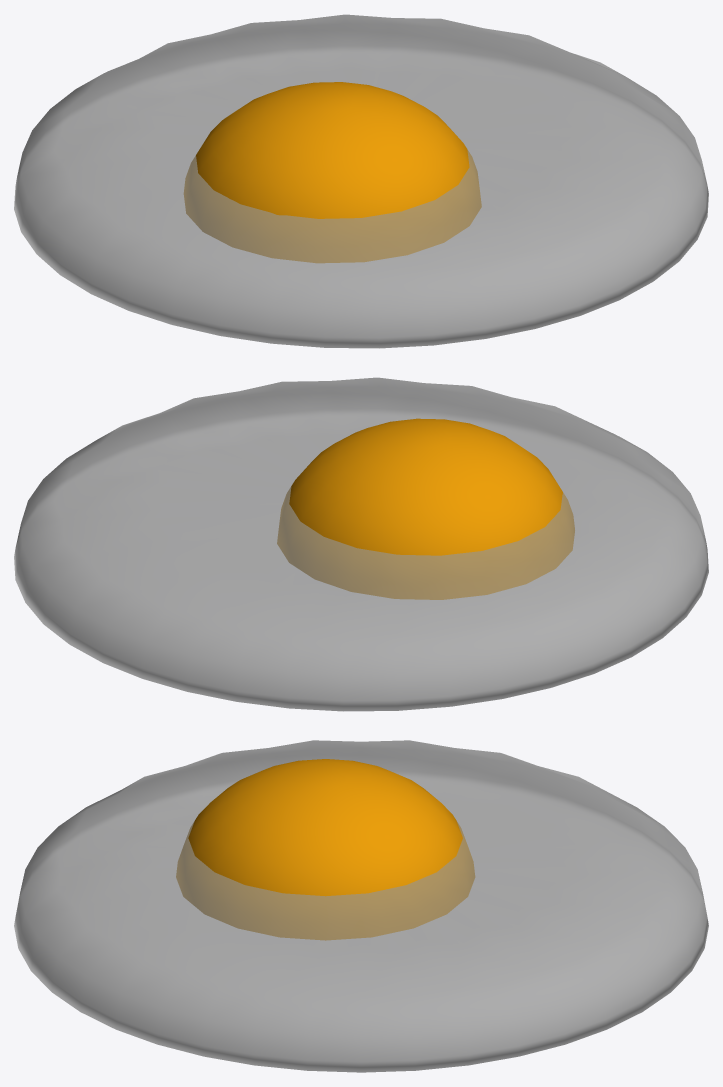
File: EggUncooked01.fbx
The picture shows the model from 3 angles, top to bottom: view 1: azimuth 30°, elevation 25°; view 2: azimuth 150°, elevation 25°; view 3: azimuth 270°, elevation 25°; orthographic projection.
Visible parts, largest first — view 1: pasted__pCylinder1, pasted__pSphere1; view 2: pasted__pCylinder1, pasted__pSphere1; view 3: pasted__pCylinder1, pasted__pSphere1.
Boxes of the visible parts, x1,y1,x2,y2 form: pasted__pCylinder1: (14,14,708,348); pasted__pSphere1: (184,82,481,262); pasted__pCylinder1: (14,377,708,711); pasted__pSphere1: (277,418,574,599); pasted__pCylinder1: (14,740,708,1072); pasted__pSphere1: (176,759,474,940).
Size of the model in its own units: 9.28 by 1.9 by 9.28.
